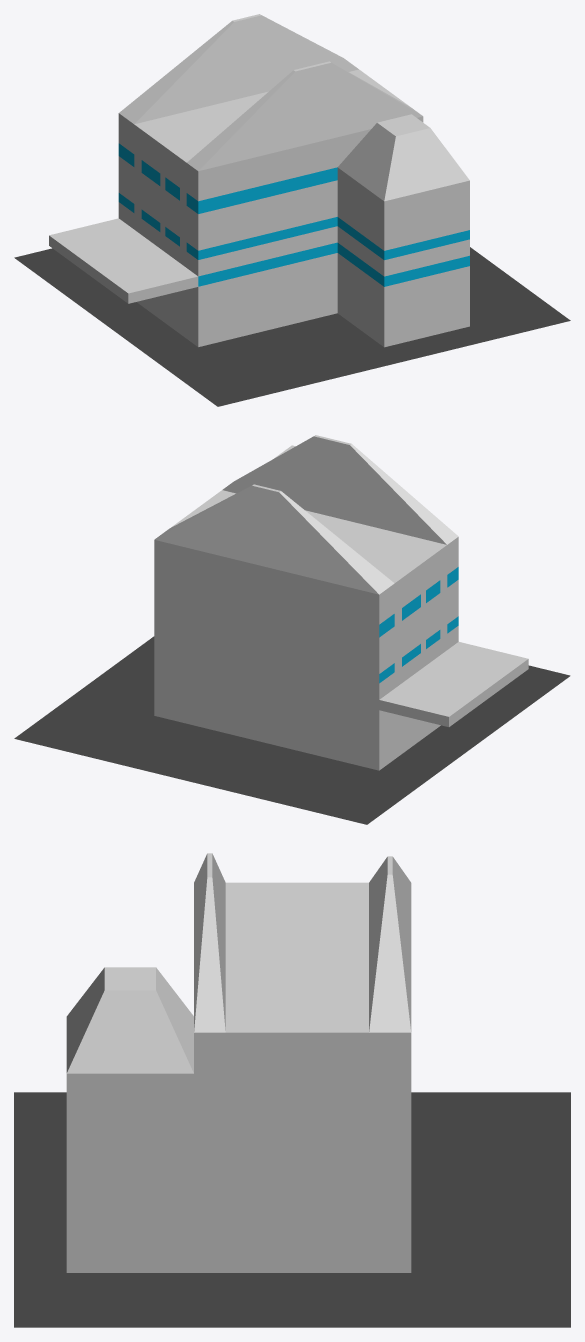
The model's file is BUILD 5 INFRAS.fbx.
3 renders of one model, top to bottom at view 1: azimuth 30°, elevation 25°; view 2: azimuth 150°, elevation 25°; view 3: azimuth 270°, elevation 25°, orthographic. The views are drawn at different scales.
Visible parts, largest first — view 1: BUILD MINI, Plane.063; view 2: BUILD MINI, Plane.063; view 3: BUILD MINI, Plane.063.
Part boxes in pixels (x1,y1,x2,y2): BUILD MINI: [49, 14, 469, 347]; Plane.063: [14, 247, 570, 406]; BUILD MINI: [154, 435, 528, 770]; Plane.063: [14, 636, 570, 824]; BUILD MINI: [66, 853, 411, 1272]; Plane.063: [14, 1092, 570, 1327].
Size of the model in its own units: 4769 by 2994 by 4471.
